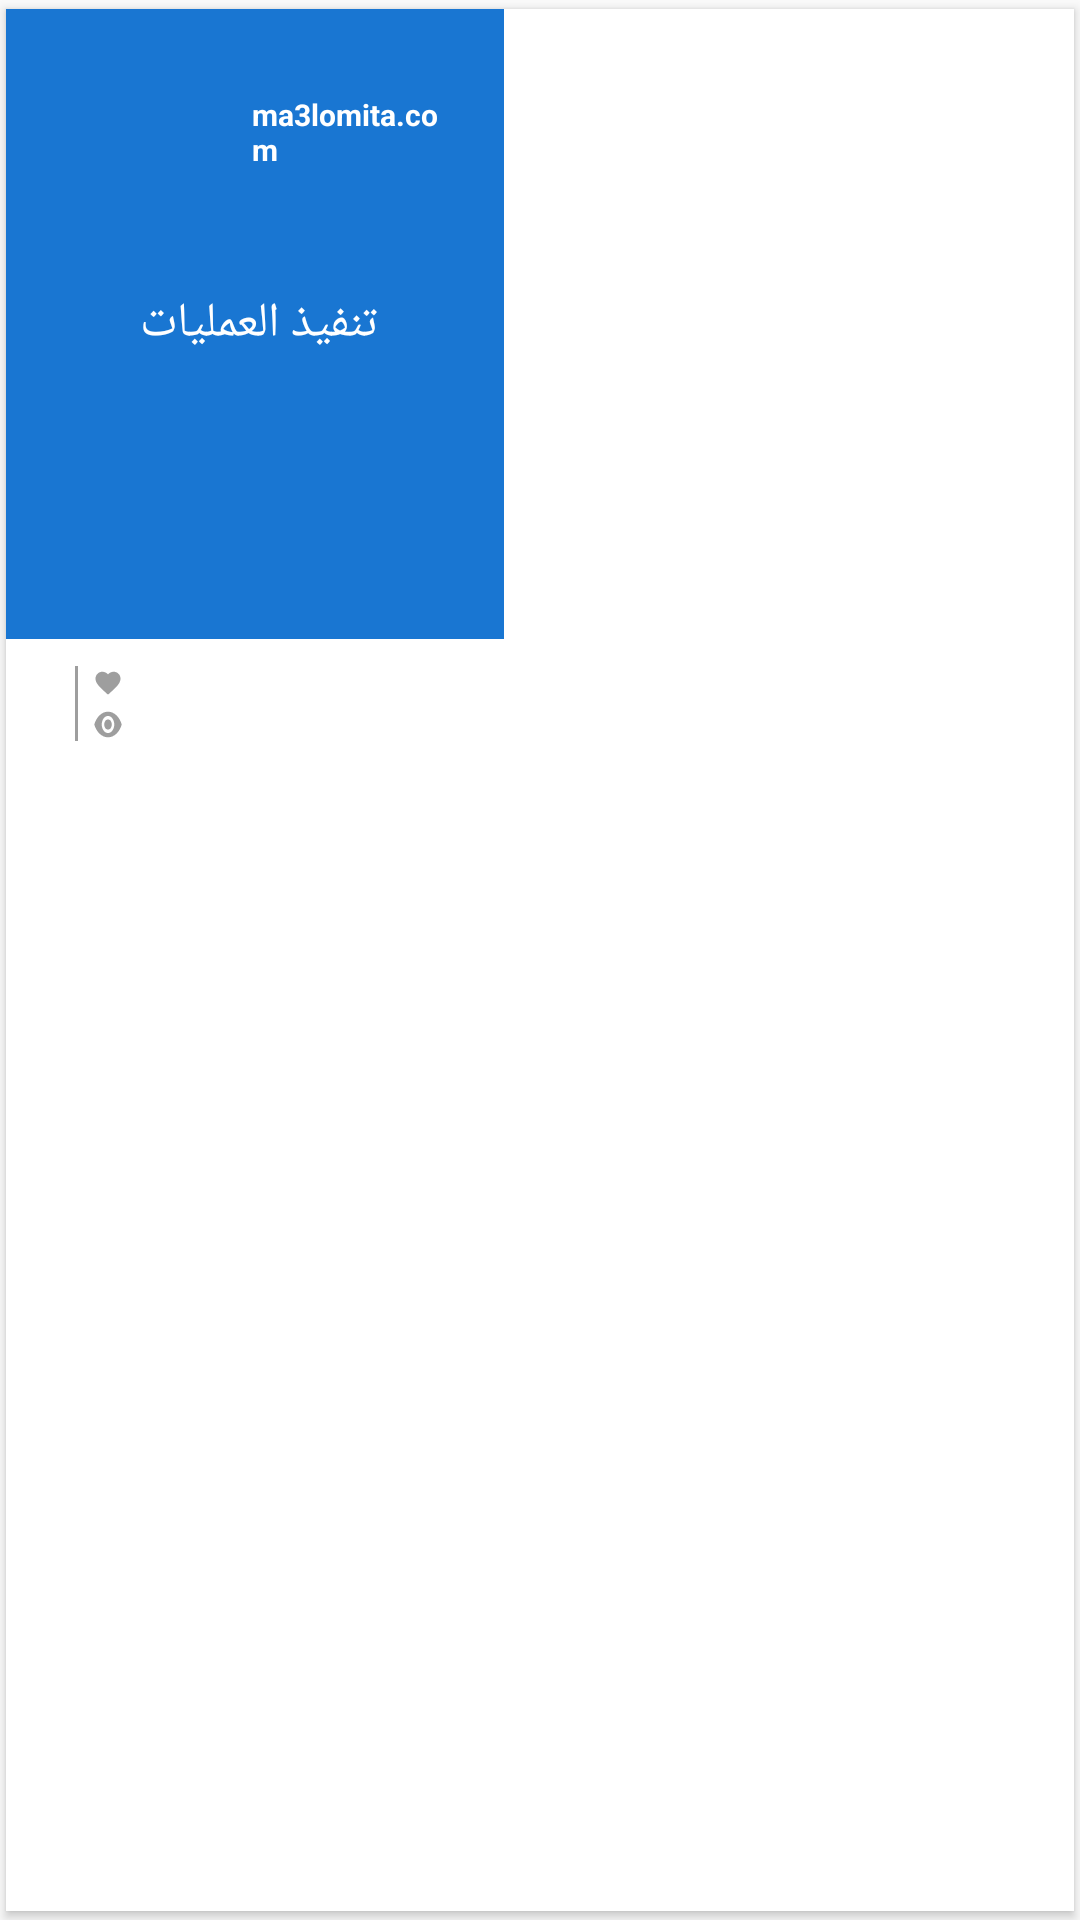

Point at icon controls on the screen. Image size 1080 × 1920, points as (x,y).
favorite: (108,683)
visibility: (108,724)
